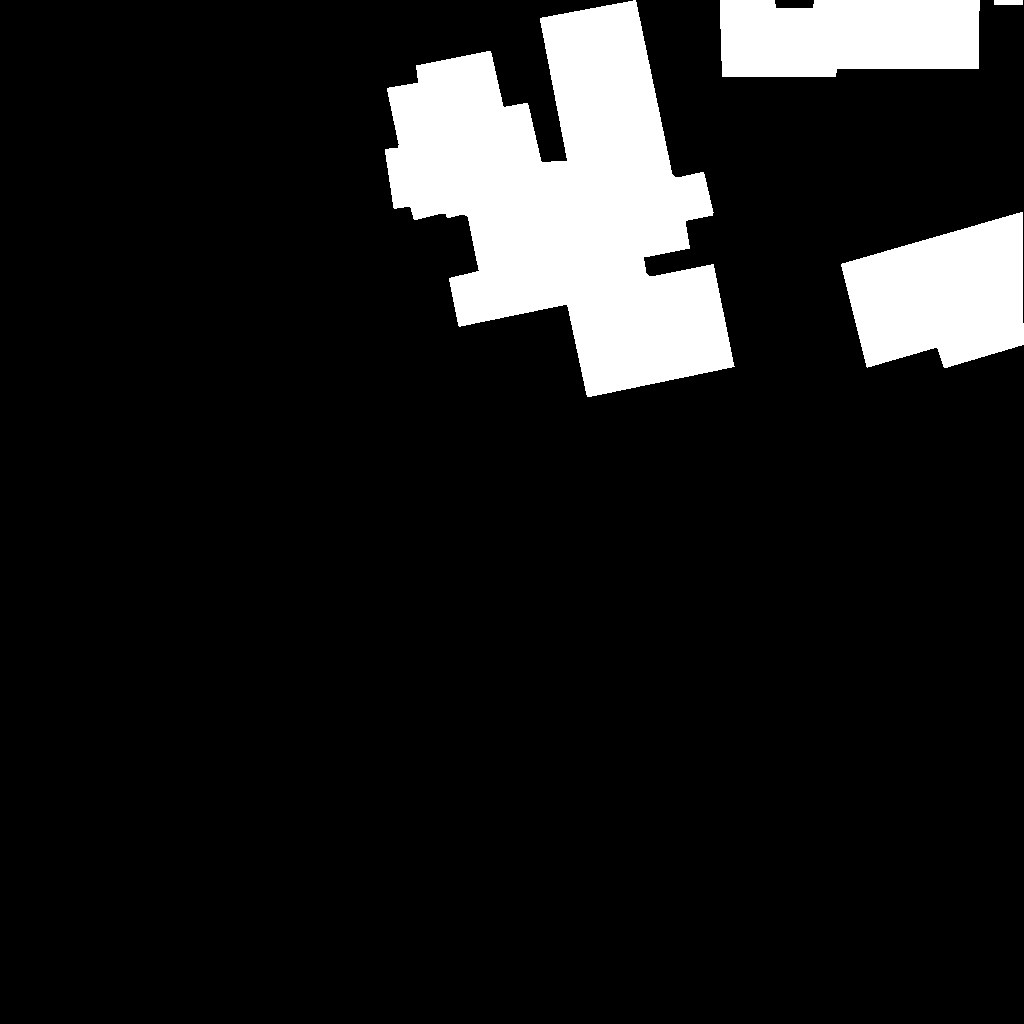building: (385, 0, 735, 398), (841, 212, 1024, 369), (720, 0, 1024, 77)
